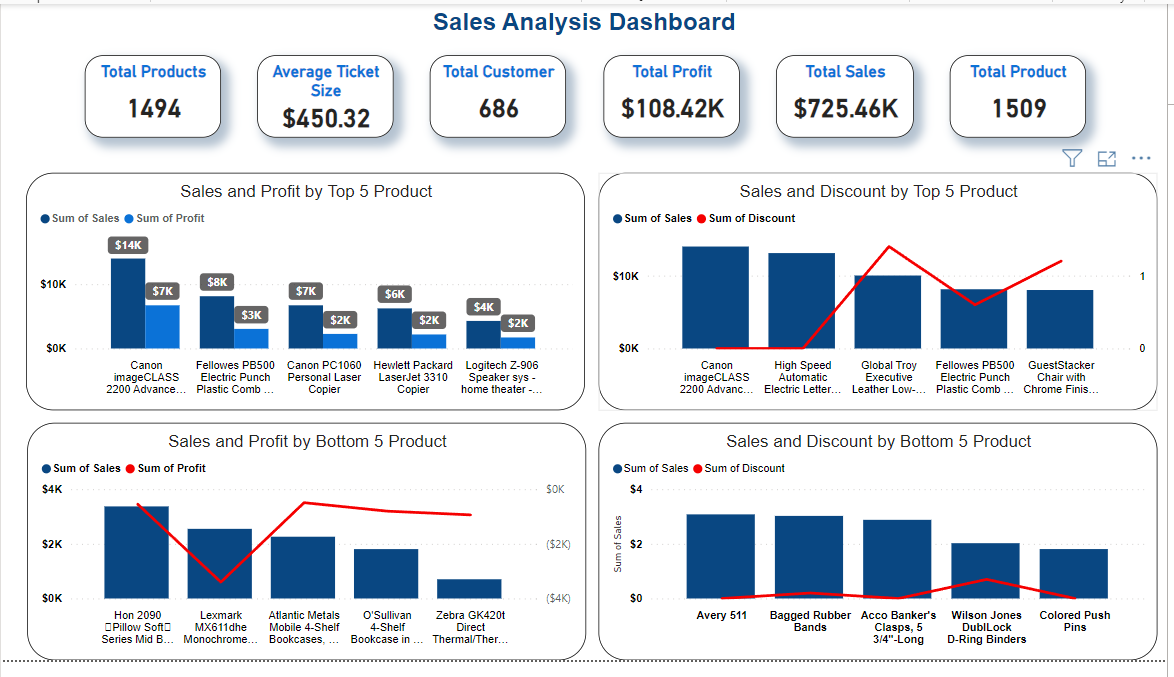

The page's visual inventory and layout, read from the dashboard file:
{"tool":"powerbi","page":{"name":"Sales_Analysis","canvas":[1280,720],"ordinal":2},"visuals":[{"type":"lineClusteredColumnComboChart","title":"Sales and Profit by Top 5 Product","fields":{"Category":["Walmart.Product Name"],"Y":["Sum(Walmart.Sales)","Sum(Walmart.Profit)"]},"box":[27.4,185.2,613.4,260.7],"z":0},{"type":"lineClusteredColumnComboChart","title":"Sales and Profit by Bottom 5 Product","fields":{"Category":["Walmart.Product Name"],"Y":["Sum(Walmart.Sales)"],"Y2":["Sum(Walmart.Profit)"]},"box":[28.8,459.7,613.4,260.7],"z":1000},{"type":"lineClusteredColumnComboChart","title":"Sales and Discount by Top 5 Product","fields":{"Category":["Walmart.Product Name"],"Y":["Sum(Walmart.Sales)"],"Y2":["Sum(Walmart.Discount)"]},"box":[655.9,185.2,613.4,260.7],"z":2000},{"type":"lineClusteredColumnComboChart","title":" Sales and Discount by Bottom 5 Product","fields":{"Category":["Walmart.Product Name"],"Y":["Sum(Walmart.Sales)"],"Y2":["Sum(Walmart.Discount)"]},"box":[655.9,459.7,613.4,260.7],"z":3000},{"type":"card","title":"Total Products","fields":{"Values":["Count(Walmart.Product Name)"]},"box":[91.9,56.3,149.6,90.6],"z":4000},{"type":"card","title":"Average Ticket Size","fields":{"Values":["Avg(WALMART_2.Total_Sales)"]},"box":[281.6,56.3,149.6,90.6],"z":5000},{"type":"card","title":"Total Customer","fields":{"Values":["Count(Walmart.Customer Name)"]},"box":[471.2,56.3,149.6,90.6],"z":6000},{"type":"card","title":"Total Profit","fields":{"Values":["Sum(WALMART_2.Total_Profit)"]},"box":[660.9,56.3,149.6,90.6],"z":7000},{"type":"card","title":"Total Sales","fields":{"Values":["Sum(WALMART_2.Total_Sales)"]},"box":[850.5,56.3,150.9,90.6],"z":8000},{"type":"card","title":"Total Product","fields":{"Values":["Count(Walmart.Product ID)"]},"box":[1041.5,56.3,149.6,90.6],"z":9000},{"type":"textbox","box":[0,0,1280.3,45.3],"z":10000}]}

Visuals, with their boxes in screenshot pixels (x1, y1, x2, y2), scaled from the page's 1280x720 canvas onto the 1174x677 screenshot:
"Sales and Profit by Top 5 Product" lineClusteredColumnComboChart: [x1=25, y1=174, x2=588, y2=419]
"Sales and Profit by Bottom 5 Product" lineClusteredColumnComboChart: [x1=26, y1=432, x2=589, y2=676]
"Sales and Discount by Top 5 Product" lineClusteredColumnComboChart: [x1=602, y1=174, x2=1164, y2=419]
" Sales and Discount by Bottom 5 Product" lineClusteredColumnComboChart: [x1=602, y1=432, x2=1164, y2=676]
"Total Products" card: [x1=84, y1=53, x2=222, y2=138]
"Average Ticket Size" card: [x1=258, y1=53, x2=395, y2=138]
"Total Customer" card: [x1=432, y1=53, x2=569, y2=138]
"Total Profit" card: [x1=606, y1=53, x2=743, y2=138]
"Total Sales" card: [x1=780, y1=53, x2=918, y2=138]
"Total Product" card: [x1=955, y1=53, x2=1092, y2=138]
textbox: [x1=0, y1=0, x2=1173, y2=43]
